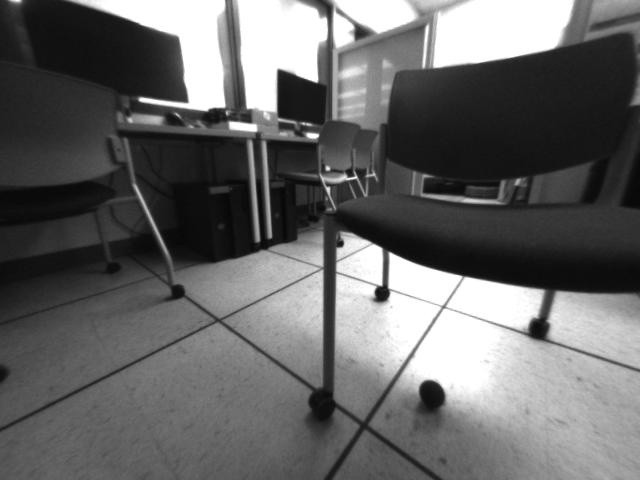dogtoy: (411, 372, 451, 415)
